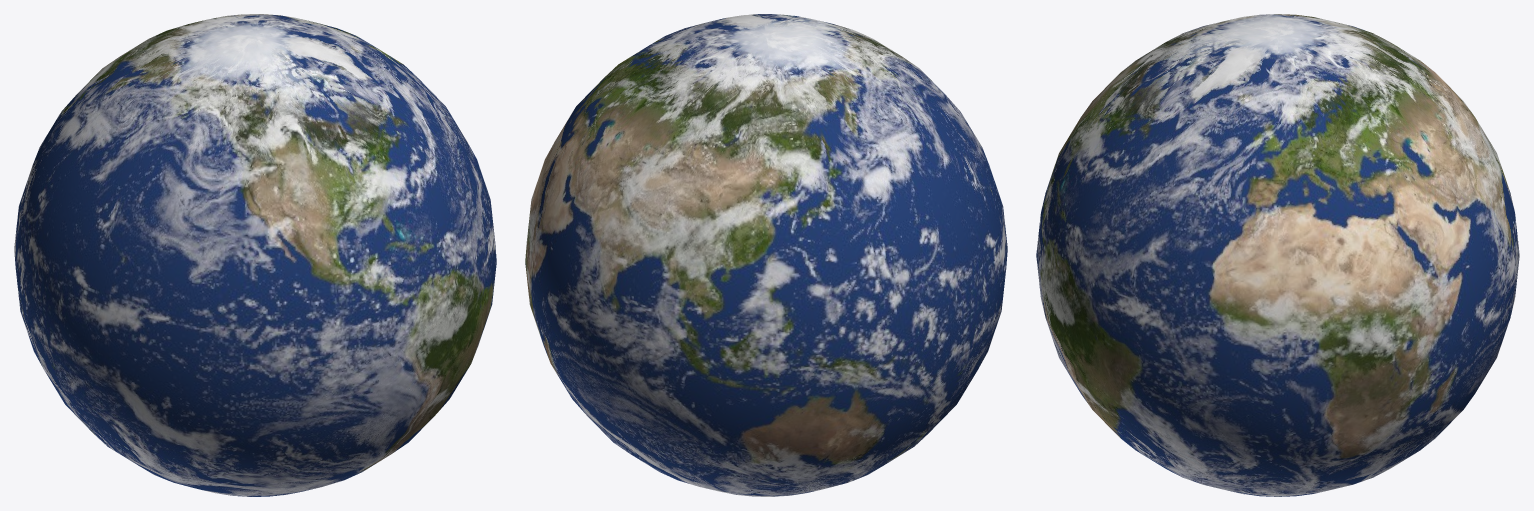
Rendered from earth3.glb.
3 views of the same model, side by side, from view 1: azimuth 30°, elevation 25°; view 2: azimuth 150°, elevation 25°; view 3: azimuth 270°, elevation 25° (orthographic).
Parts seen in each view (by area): view 1: Planet; view 2: Planet; view 3: Planet.
Boxes of the visible parts, x1,y1,x2,y2 form: Planet: [14, 14, 496, 496]; Planet: [525, 14, 1007, 496]; Planet: [1036, 14, 1519, 496].
Size of the model in its own units: 1 by 1 by 1.
1 material, 1 textured.
